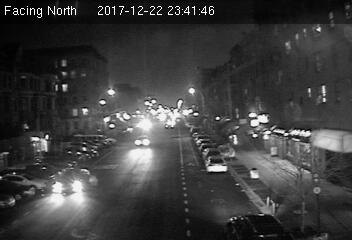car: (52, 166, 91, 194), (203, 155, 227, 172), (133, 135, 151, 147)
